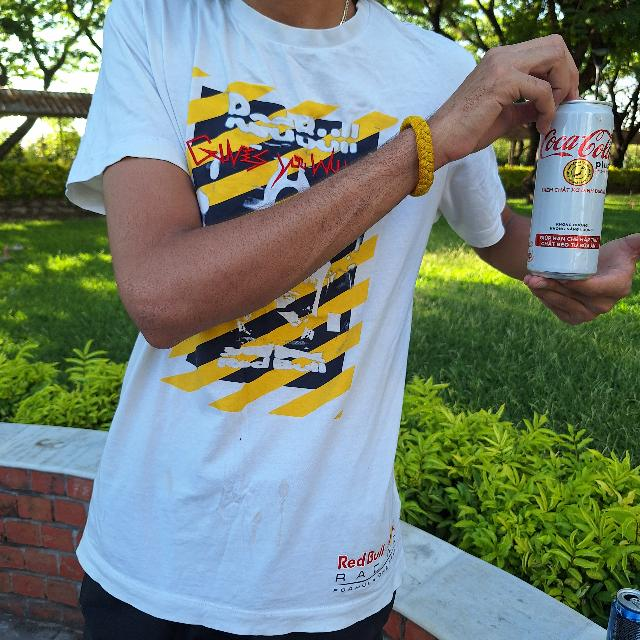Coca Cola Plus: (534, 103, 612, 281)
